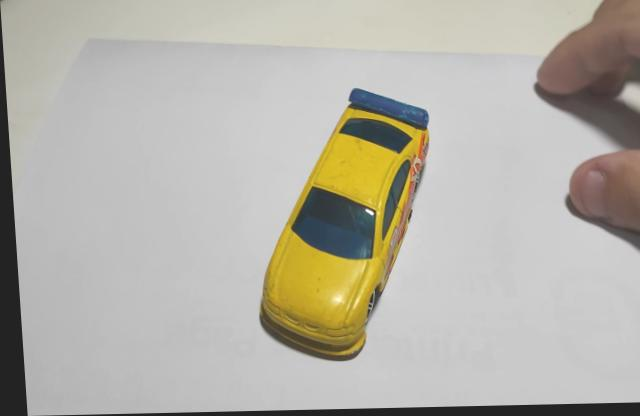02_OZSOME: (256, 89, 428, 358)
